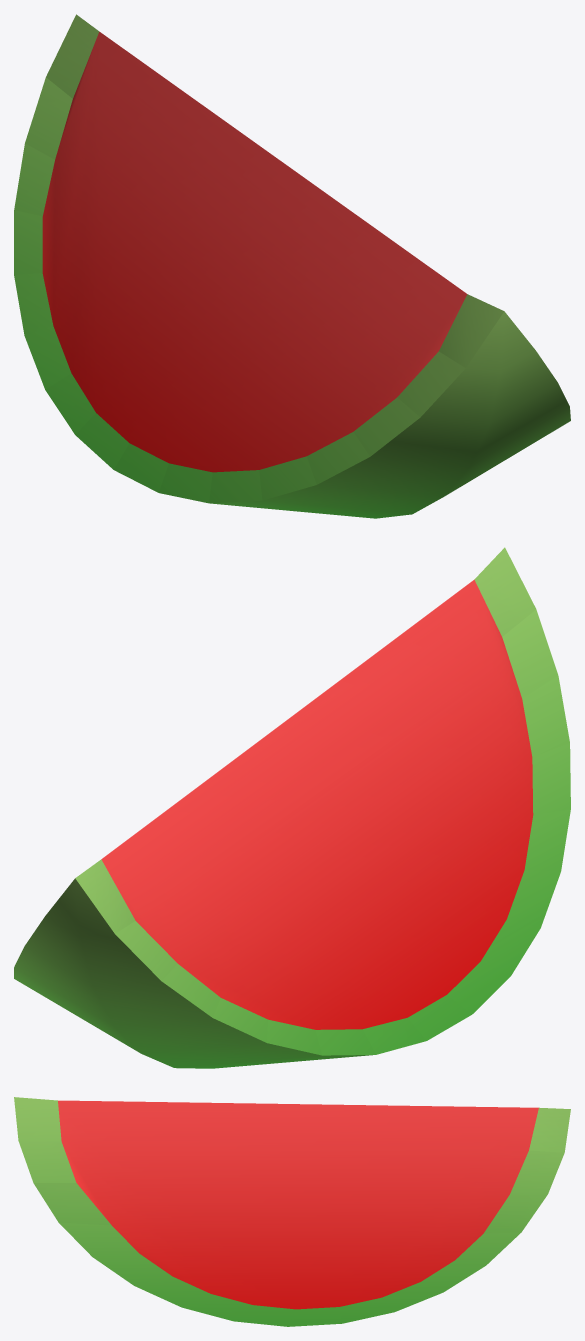
File: watermelon_quart.fbx
3 renders of one model, top to bottom at view 1: azimuth 30°, elevation 25°; view 2: azimuth 150°, elevation 25°; view 3: azimuth 270°, elevation 25°, orthographic. The views are drawn at different scales.
Visible parts, largest first — view 1: watermelon_quart; view 2: watermelon_quart; view 3: watermelon_quart.
Boxes of the visible parts, box(x1,y1,x2,y2) form: watermelon_quart: box(14, 14, 570, 518); watermelon_quart: box(14, 547, 570, 1068); watermelon_quart: box(14, 1097, 570, 1326).
Size of the model in its own units: 115 by 101 by 238.
